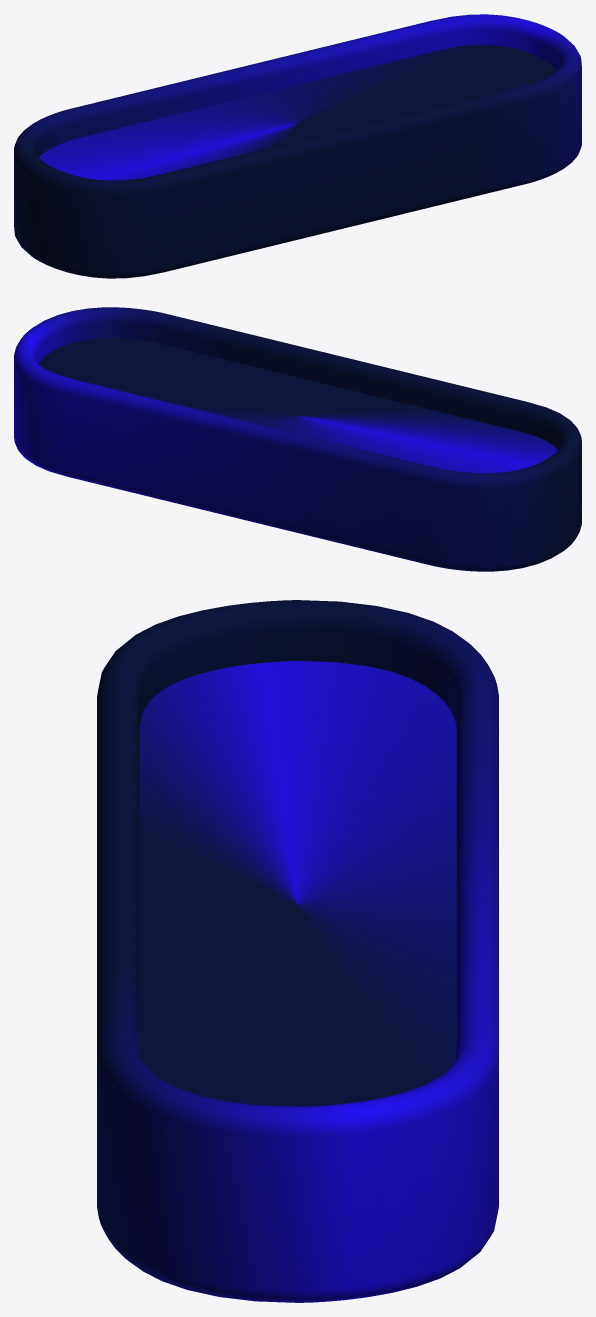
File: Paddle-19.dae
The picture shows the model from 3 angles, top to bottom: view 1: azimuth 30°, elevation 25°; view 2: azimuth 150°, elevation 25°; view 3: azimuth 270°, elevation 25°; orthographic projection. The views are drawn at different scales.
Visible parts, largest first — view 1: Paddle; view 2: Paddle; view 3: Paddle.
Part boxes in pixels (left/top/right/bottom): Paddle: left=14, top=14, right=581, bottom=278; Paddle: left=14, top=307, right=581, bottom=571; Paddle: left=97, top=600, right=498, bottom=1302.
Size of the model in its own units: 0.2922 by 0.05 by 0.0946.
Materials: 2 (2 with a texture image).
